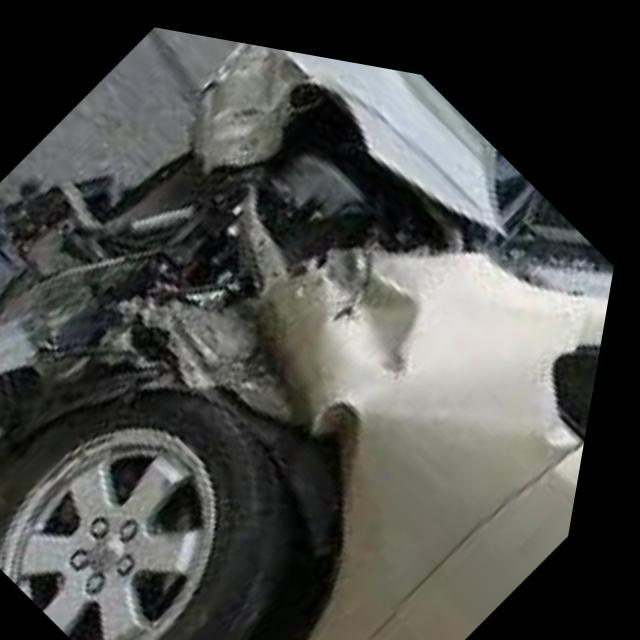crash: (0, 33, 509, 476)
